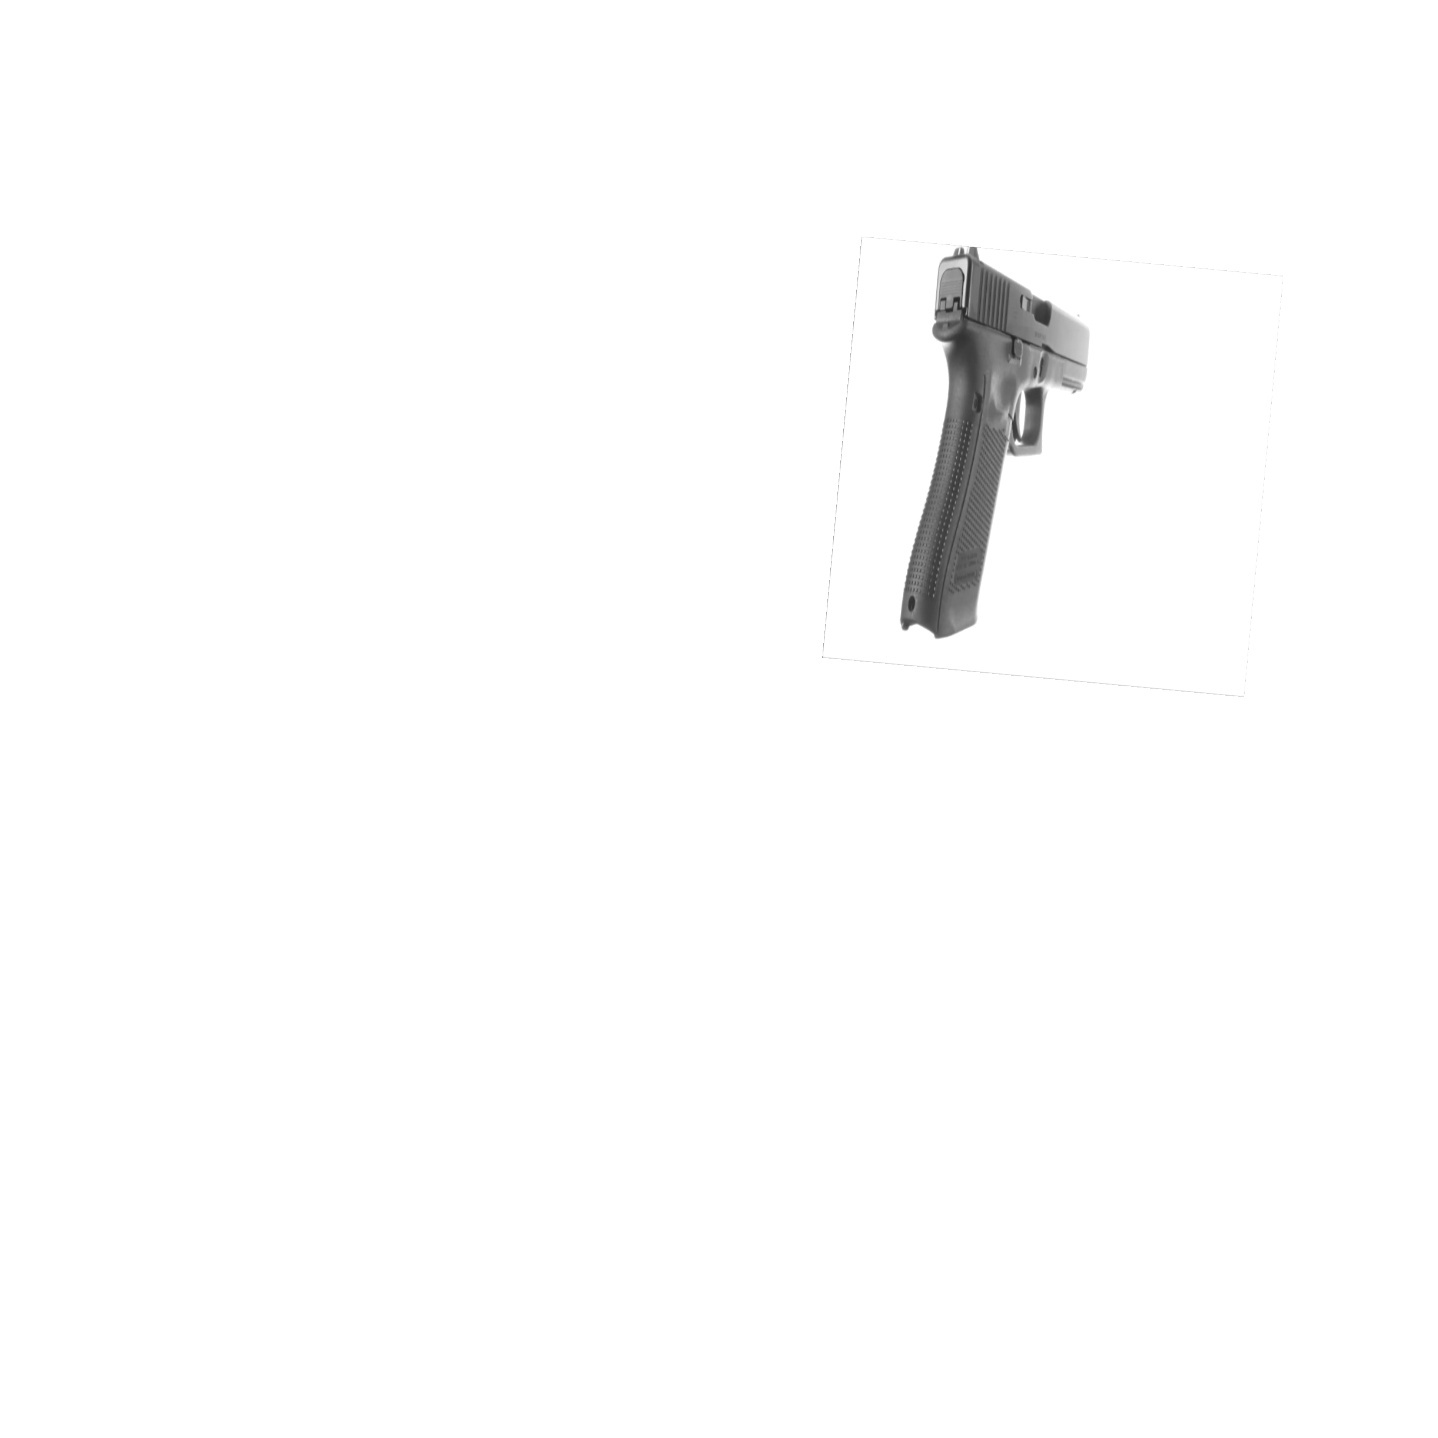gun: (895, 244, 1094, 643)
